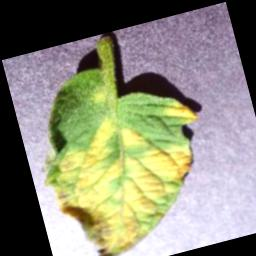Leaf_Mold: (31, 97, 214, 256), (159, 93, 198, 130)
